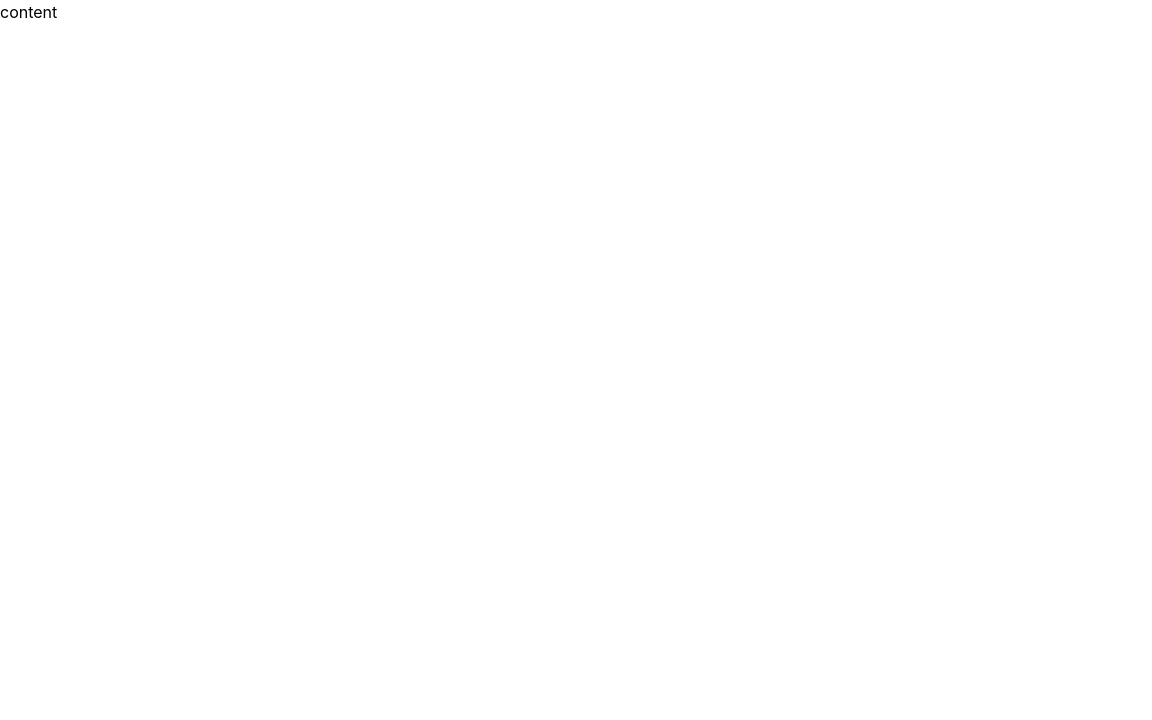
Test: CommandPalette › closes on the first Escape even with a query
Press p
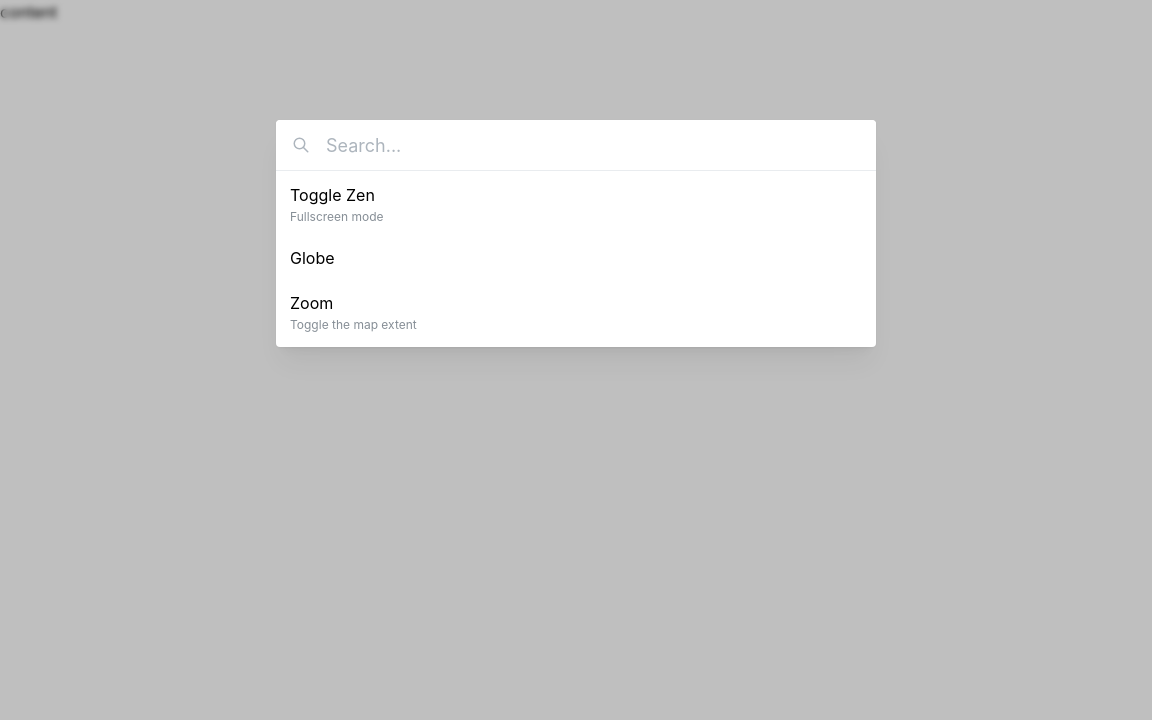
Type "zen" into the dropdown with placeholder "Search..." at (576, 145), box top-left (276, 120), bottom-right (876, 170)
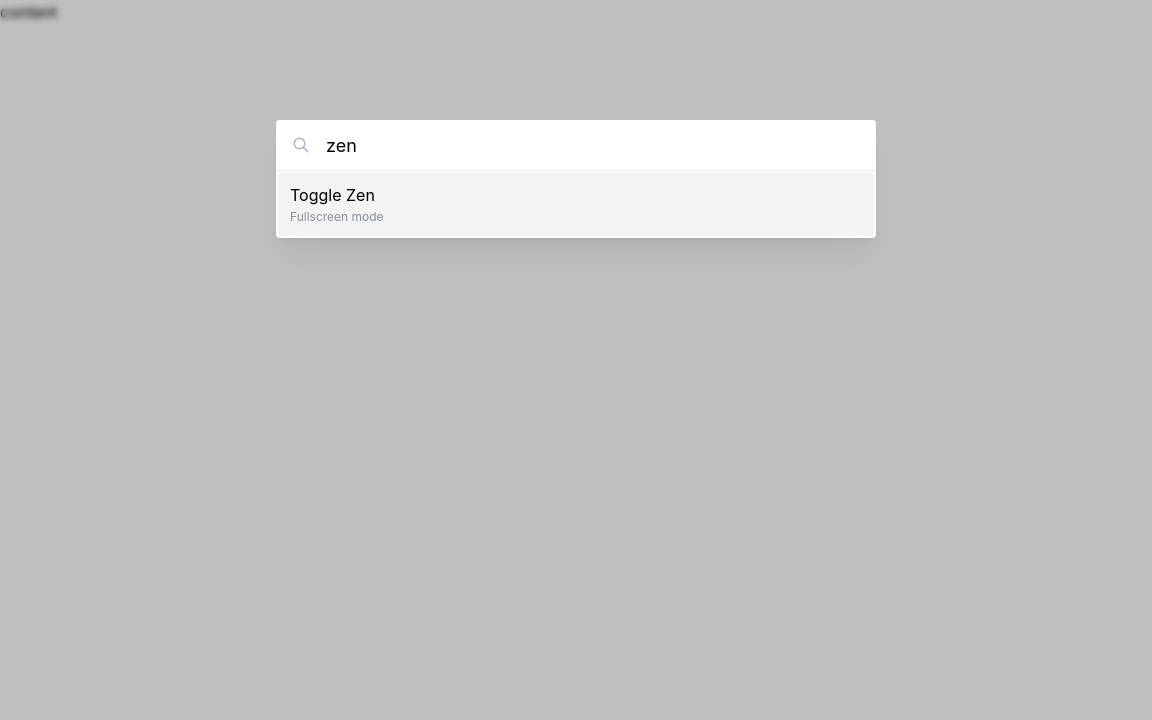
Press Escape
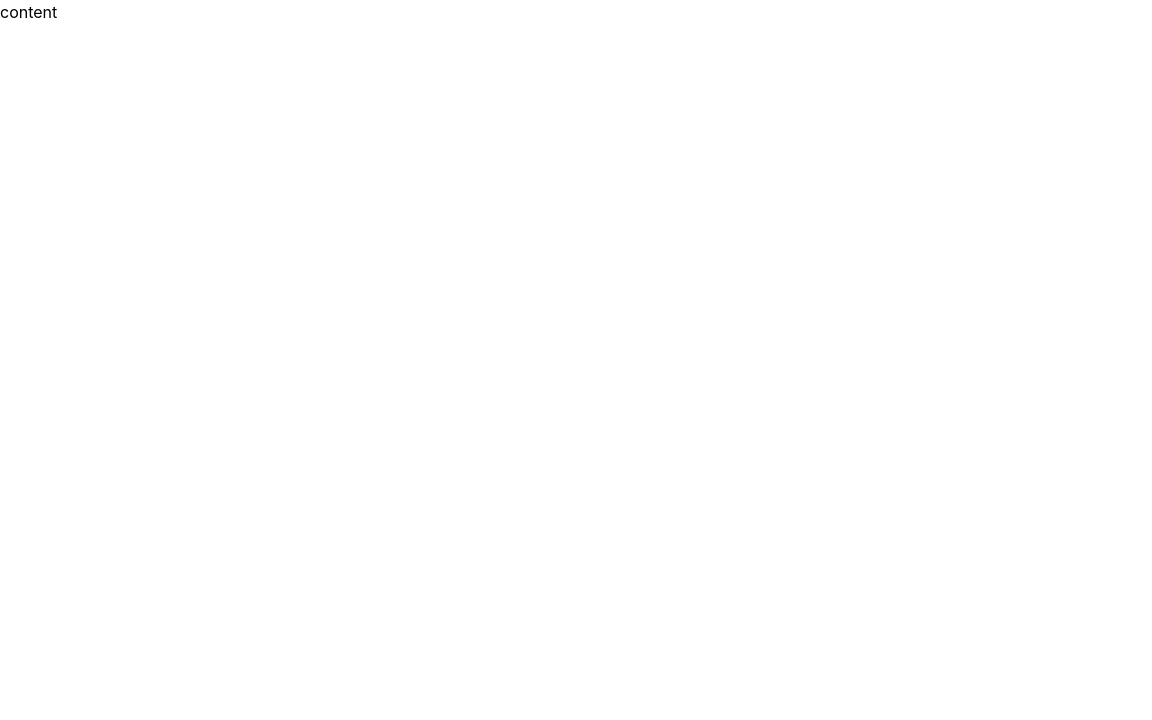
Expected: the dropdown with placeholder "Search..." is gone
